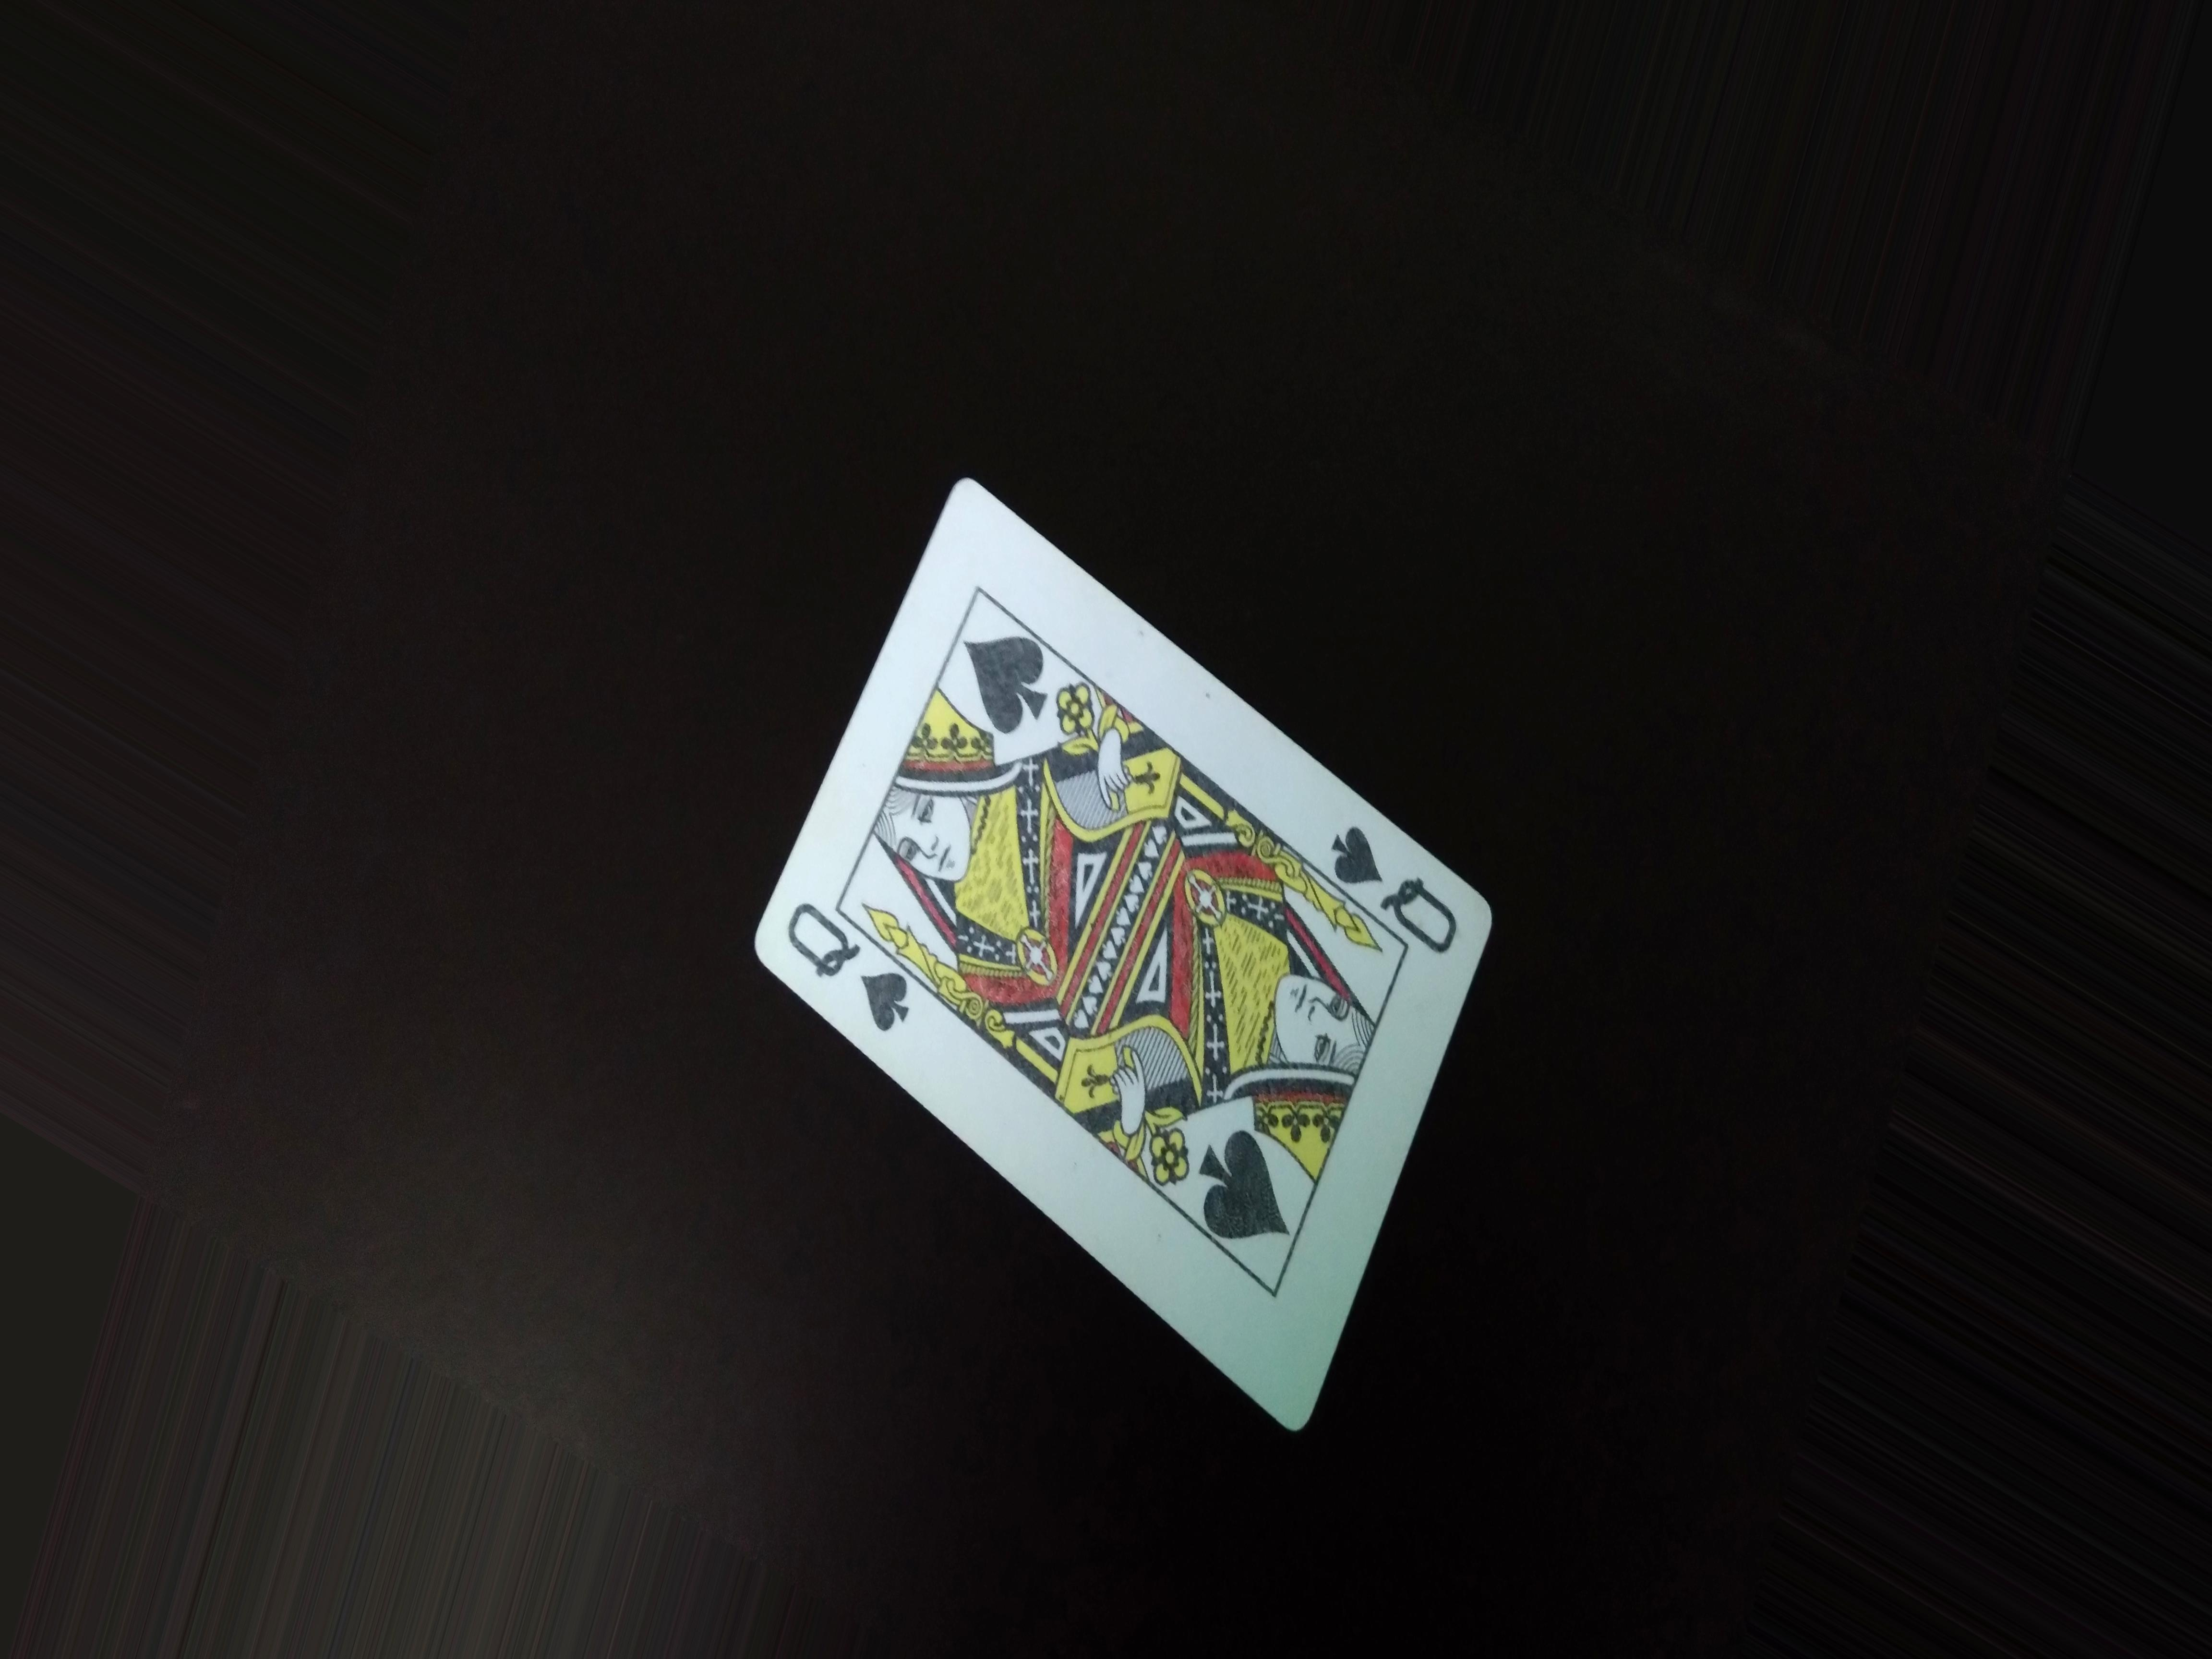QS: (789, 889, 923, 1037)
